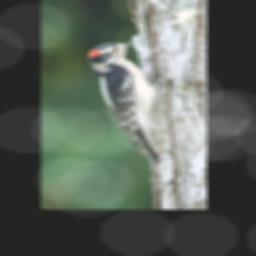Woodpecker: (86, 38, 166, 168)
